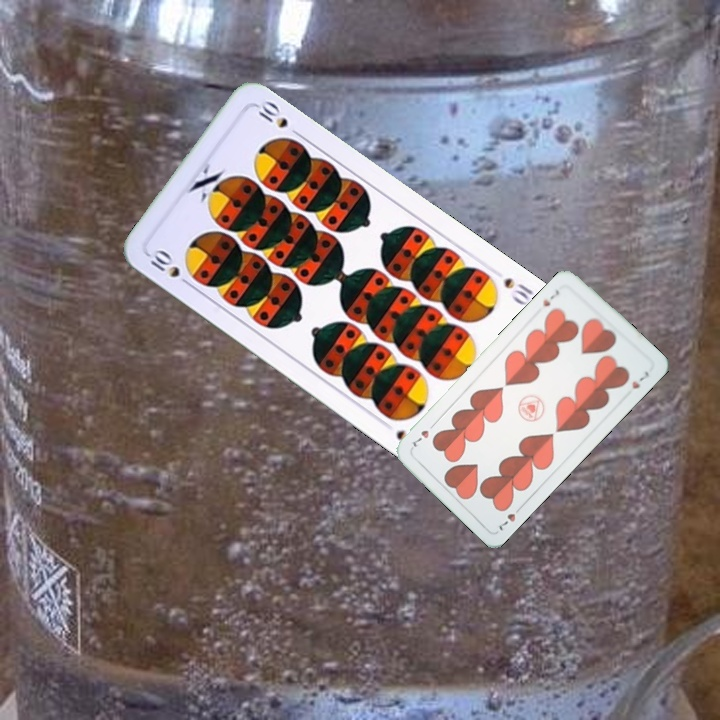H7: (494, 501, 525, 533), (539, 286, 562, 309)
S10: (146, 245, 195, 290), (500, 273, 537, 309)
